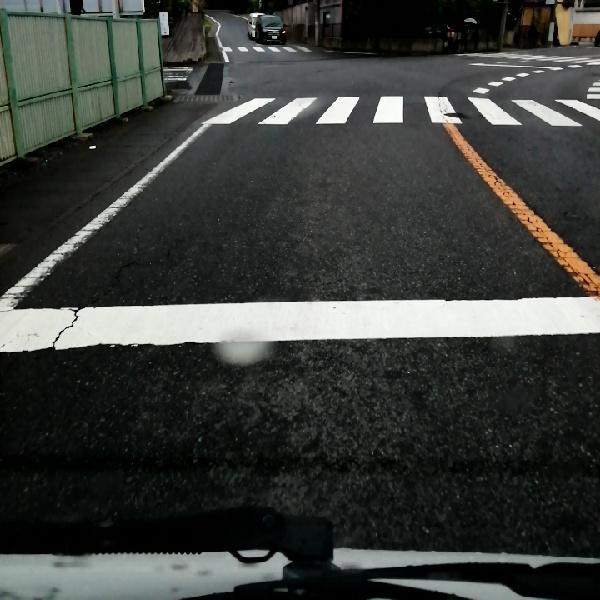D00: (89, 253, 141, 298)
